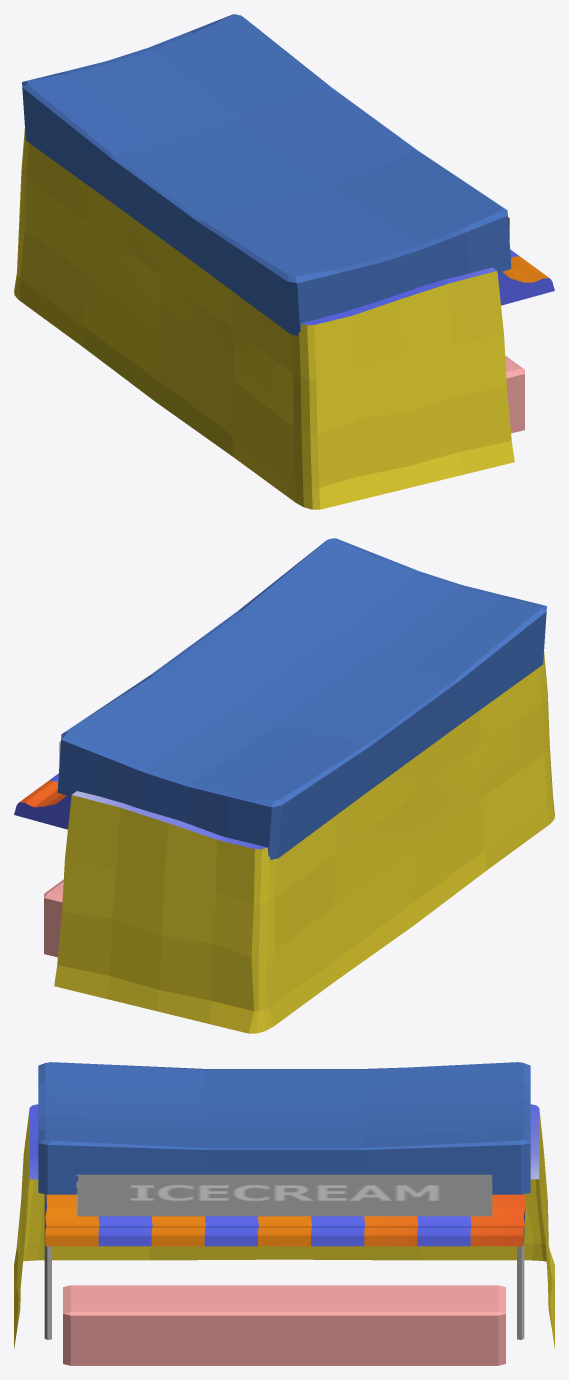
File: rowyatailong1.fbx
The picture shows the model from 3 angles, top to bottom: view 1: azimuth 30°, elevation 25°; view 2: azimuth 150°, elevation 25°; view 3: azimuth 270°, elevation 25°; orthographic projection. The views are drawn at different scales.
Visible parts, largest first — view 1: 立方体, Cube, 立方体.001; view 2: 立方体, Cube, 立方体.001; view 3: Cube, 立方体.001, 立方体, 円柱.
Boxes of the visible parts, bbox=[...] form: 立方体: bbox=[14, 128, 514, 509]; Cube: bbox=[22, 14, 554, 335]; 立方体.001: bbox=[505, 356, 524, 433]; 立方体: bbox=[54, 652, 554, 1033]; Cube: bbox=[14, 538, 546, 859]; 立方体.001: bbox=[44, 880, 63, 957]; Cube: bbox=[38, 1062, 530, 1246]; 立方体.001: bbox=[63, 1285, 505, 1365]; 立方体: bbox=[14, 1104, 554, 1348]; 円柱: bbox=[44, 1194, 524, 1339].
Size of the model in its own units: 133 by 114 by 262.
Materials: 1 (1 with a texture image).
